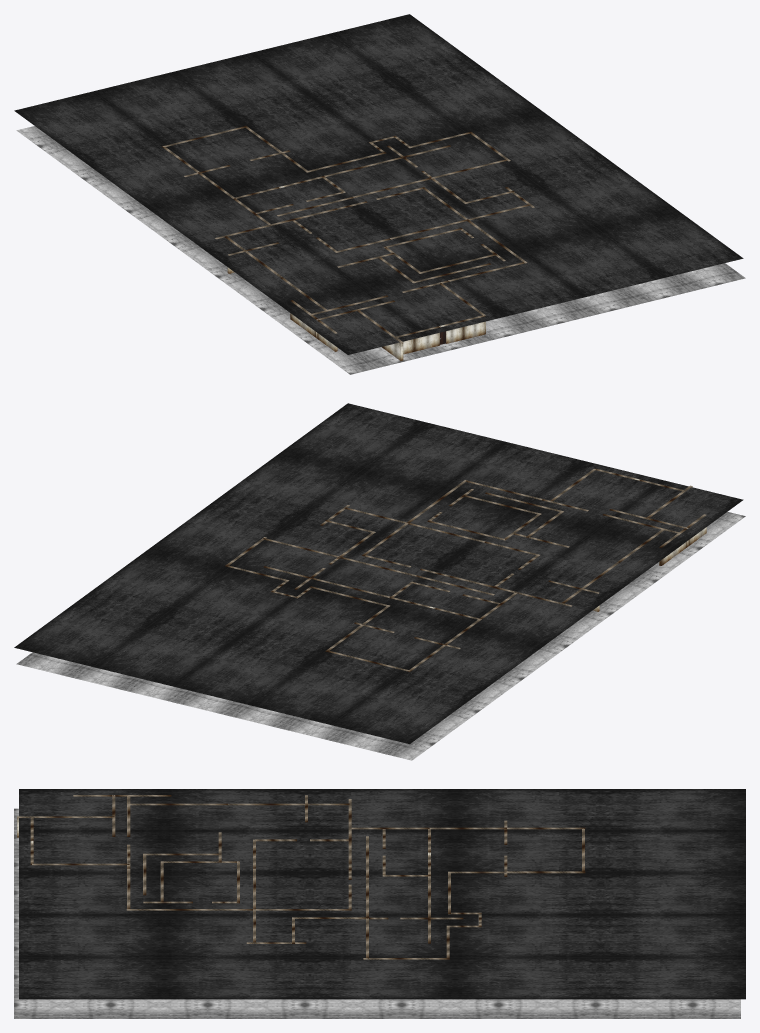
File: test6gltf.gltf
The picture shows the model from 3 angles, top to bottom: view 1: azimuth 30°, elevation 25°; view 2: azimuth 150°, elevation 25°; view 3: azimuth 270°, elevation 25°; orthographic projection. The views are drawn at different scales.
Parts seen in each view (by area): view 1: Ceiling, Floor, Wall.061, Wall.060; view 2: Ceiling, Floor; view 3: Ceiling, Floor.
Boxes of the visible parts, box(x1,y1,x2,y2) form: Ceiling: box(14, 14, 743, 354); Floor: box(16, 126, 745, 374); Wall.061: box(445, 315, 485, 343); Wall.060: box(396, 326, 439, 354); Ceiling: box(14, 403, 743, 744); Floor: box(16, 512, 745, 760); Ceiling: box(19, 789, 745, 999); Floor: box(14, 808, 740, 1018).
Size of the model in its own units: 101 by 4.62 by 149.
8 materials, 8 textured.
